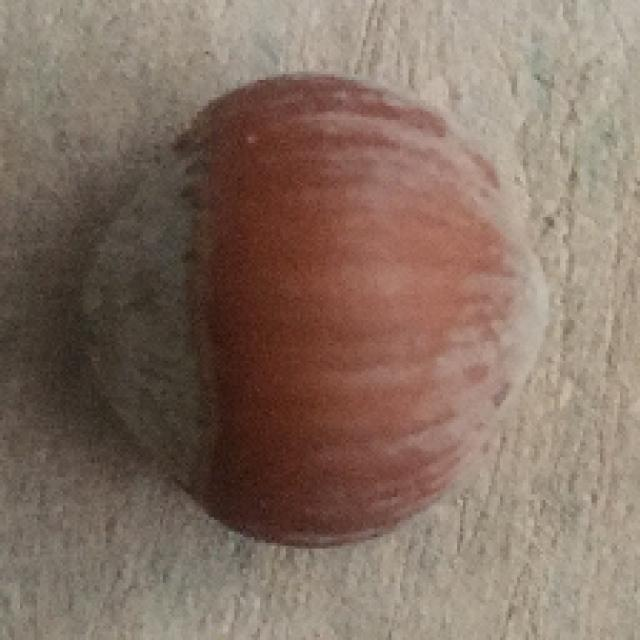qualityHazelnut: (64, 70, 558, 546)
